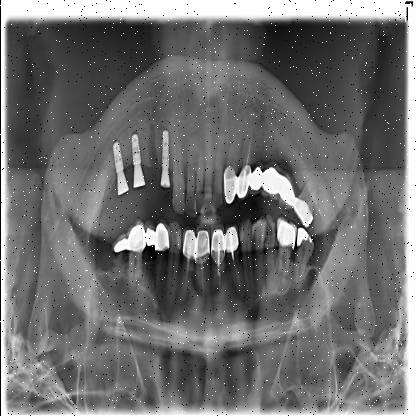ITI: (158, 128, 174, 168), (108, 138, 124, 175), (130, 132, 144, 166)
